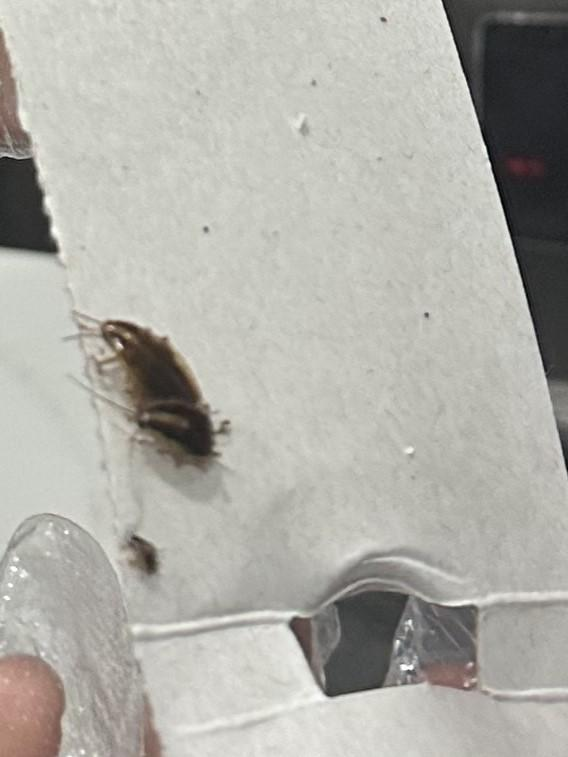cockroach: (50, 280, 238, 402), (90, 389, 265, 486), (90, 482, 186, 603)
